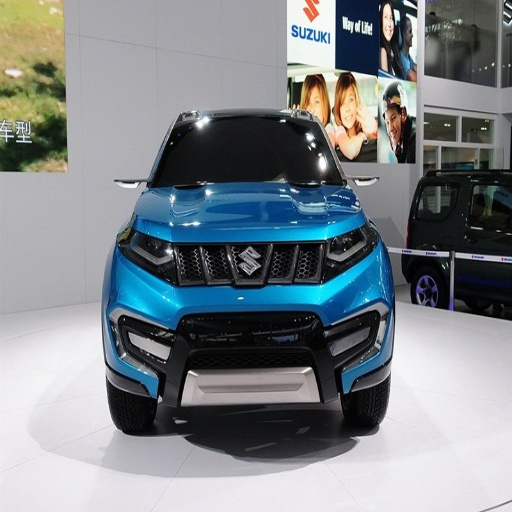front_bumper: (106, 241, 392, 413)
front_right_light: (117, 229, 177, 281)
